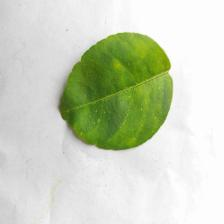greening: (105, 46, 158, 139)
